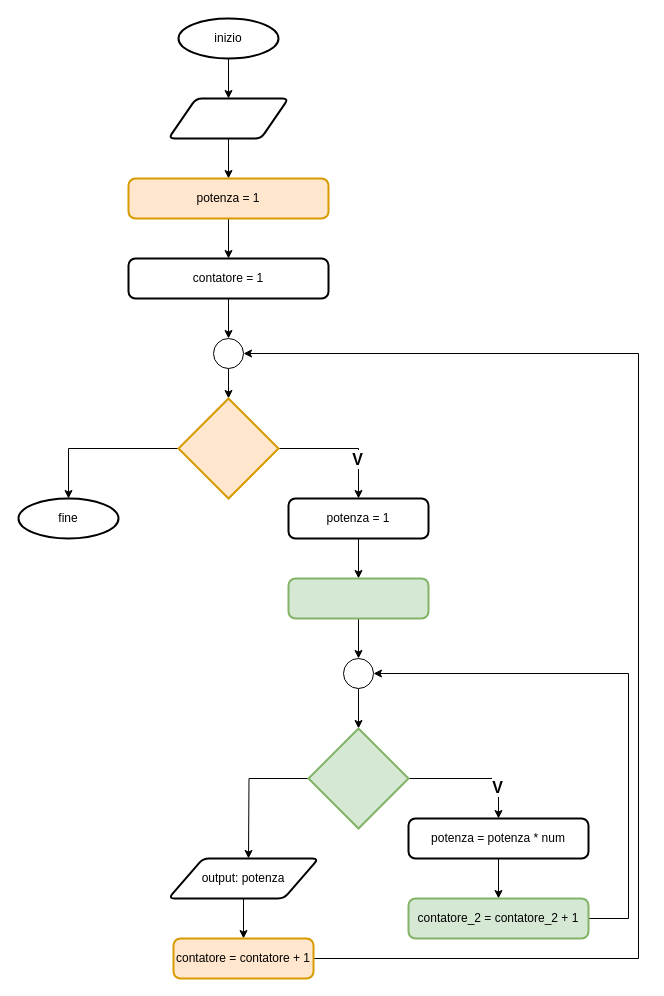
This 664x996 diagram has some shape labels left out. The centre of each missing label's shape, as x and y in pixels:
contatore <= 5: point (228, 448)
contatore_2 <= contatore: point (358, 778)
contatore_2 = 1: point (358, 598)
num: point (228, 118)
